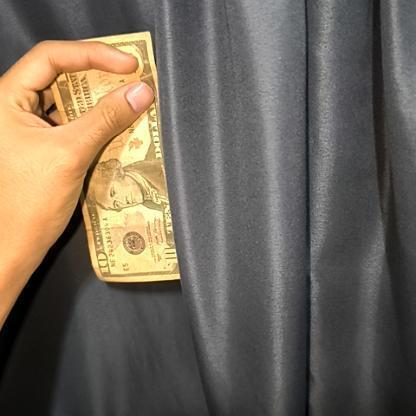ten-front: (56, 26, 180, 286)
